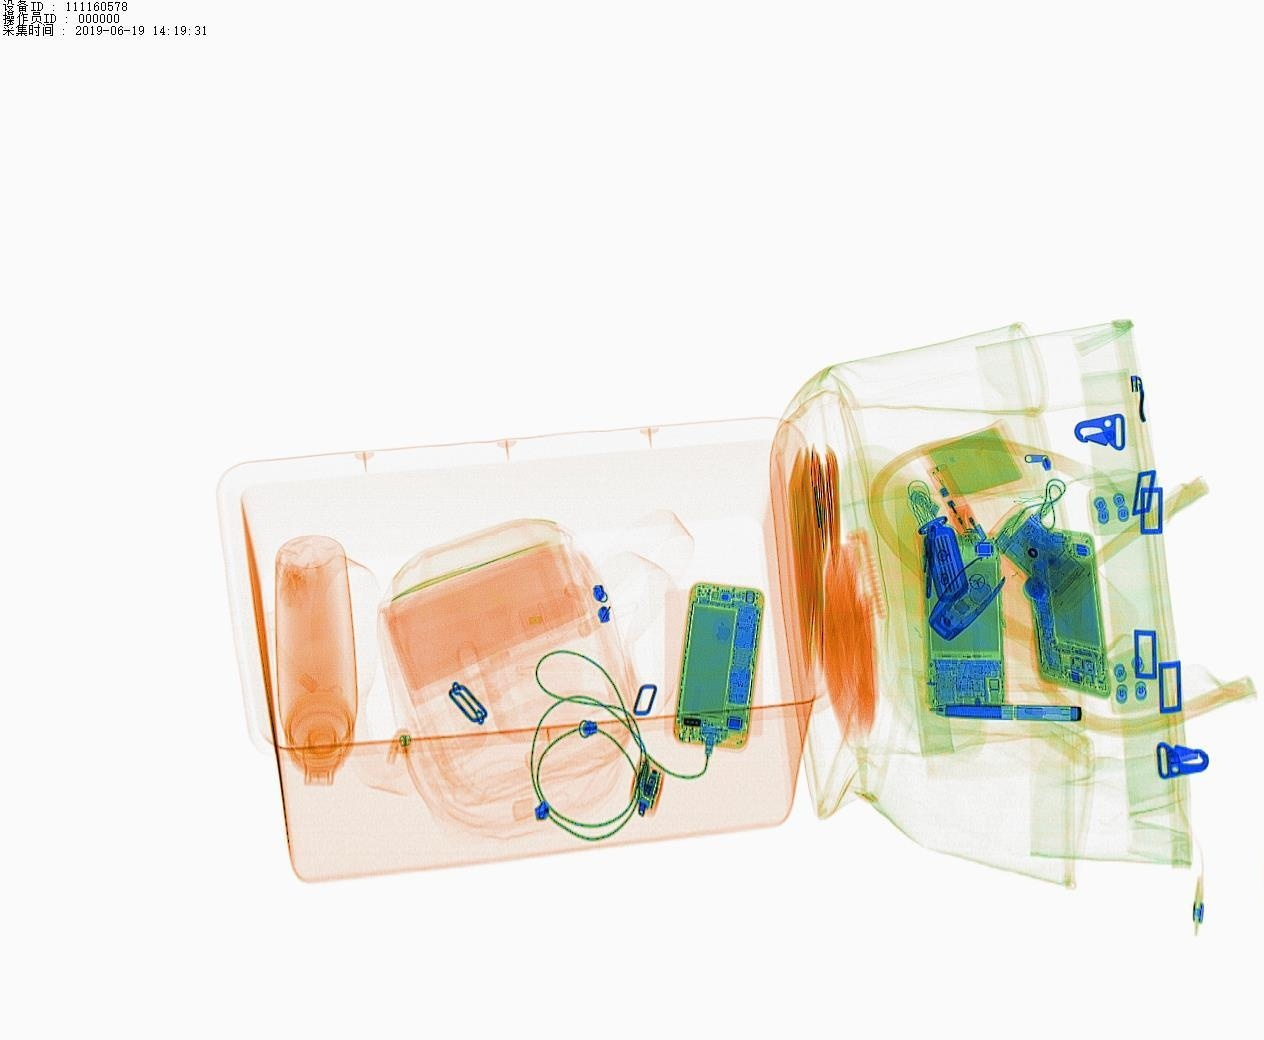NonmetallicFire: (917, 441, 1006, 564)
